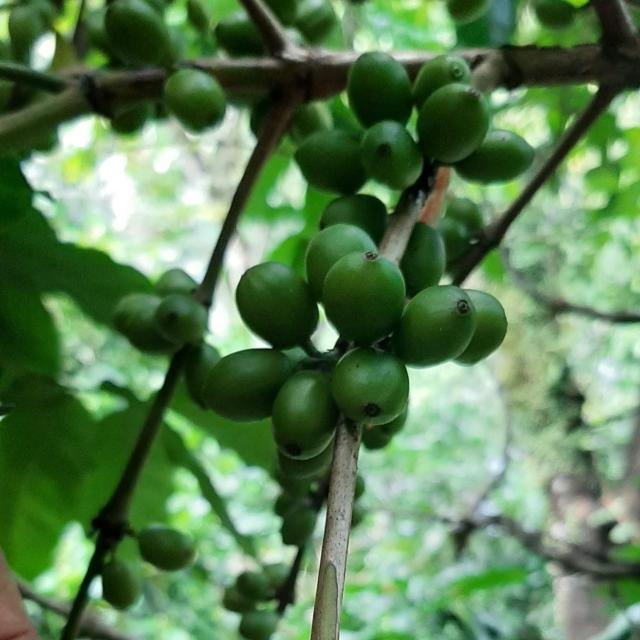green: (322, 252, 406, 345), (236, 262, 318, 349), (393, 286, 477, 368), (203, 349, 293, 422), (271, 370, 338, 461), (332, 348, 409, 426), (417, 83, 490, 163), (306, 224, 377, 301), (348, 51, 413, 127), (295, 129, 367, 194), (455, 129, 536, 184), (361, 120, 424, 190), (456, 289, 509, 366), (163, 68, 226, 132), (320, 194, 389, 244), (401, 223, 447, 296), (413, 54, 471, 109)
